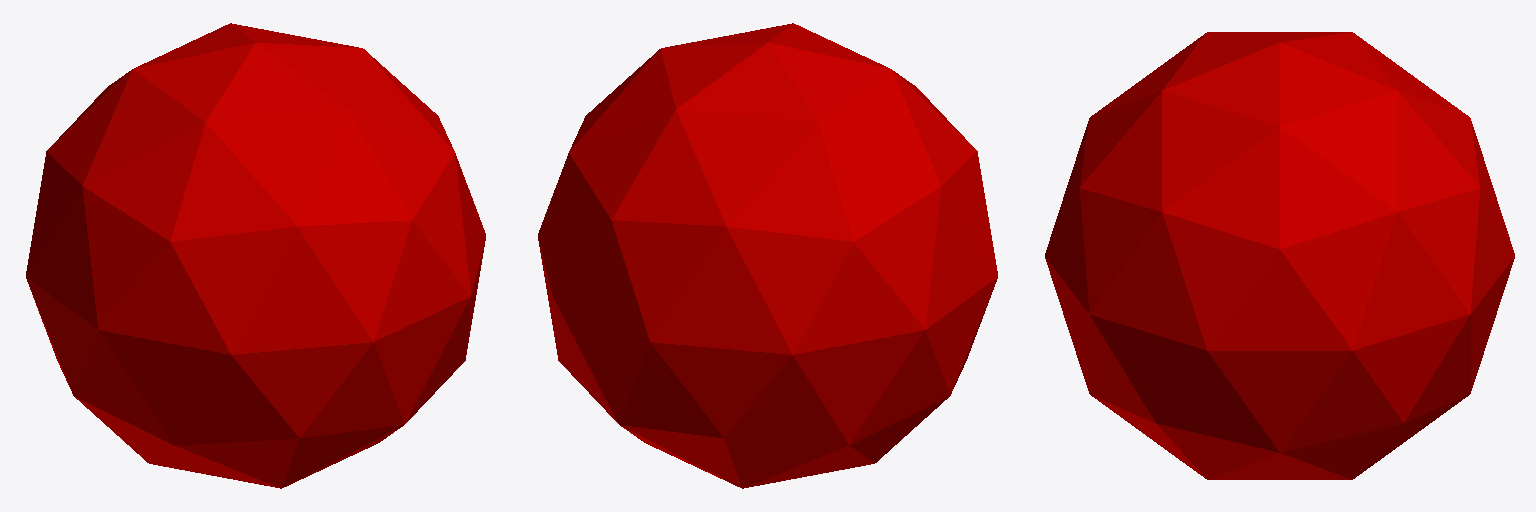
The model's file is sun.obj.
3 views of the same model, side by side, from view 1: azimuth 30°, elevation 25°; view 2: azimuth 150°, elevation 25°; view 3: azimuth 270°, elevation 25° (orthographic).
Visible parts, largest first — view 1: Icosphere_Icosphere.009; view 2: Icosphere_Icosphere.009; view 3: Icosphere_Icosphere.009.
Boxes of the visible parts, x1,y1,x2,y2 form: Icosphere_Icosphere.009: [26, 23, 485, 488]; Icosphere_Icosphere.009: [538, 23, 997, 488]; Icosphere_Icosphere.009: [1045, 32, 1514, 479].
Size of the model in its own units: 2.85 by 3 by 3.